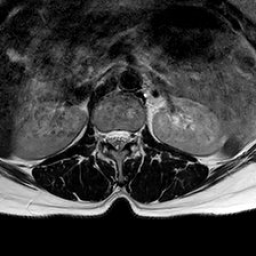CCS_normal: (114, 120, 122, 160)
LFS_normal: (130, 118, 138, 150)
LLS_normal: (122, 120, 130, 149)
RFS_normal: (98, 120, 106, 150)
RLS_normal: (106, 120, 114, 152)
